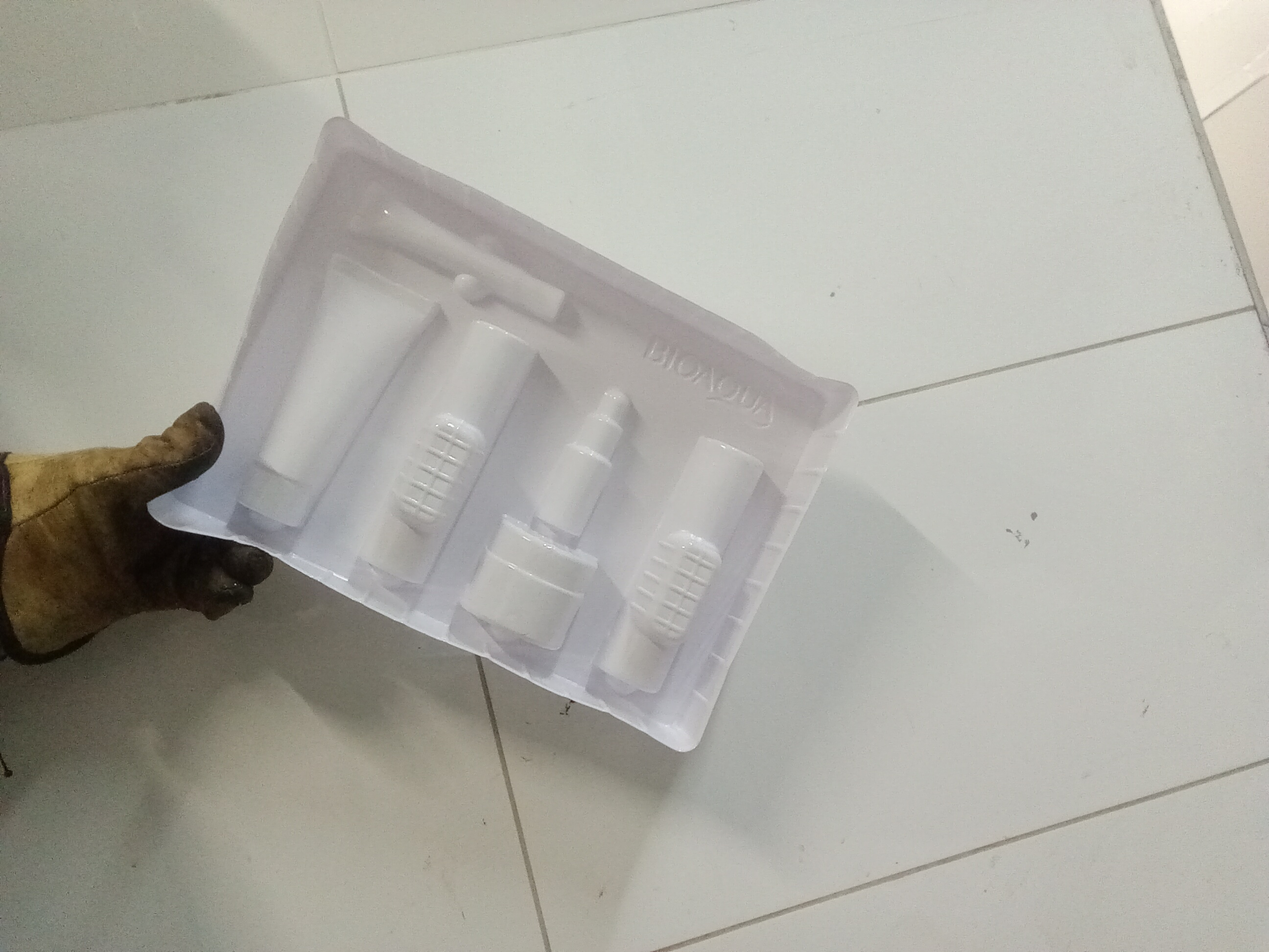Ordinario: (141, 117, 859, 753)
